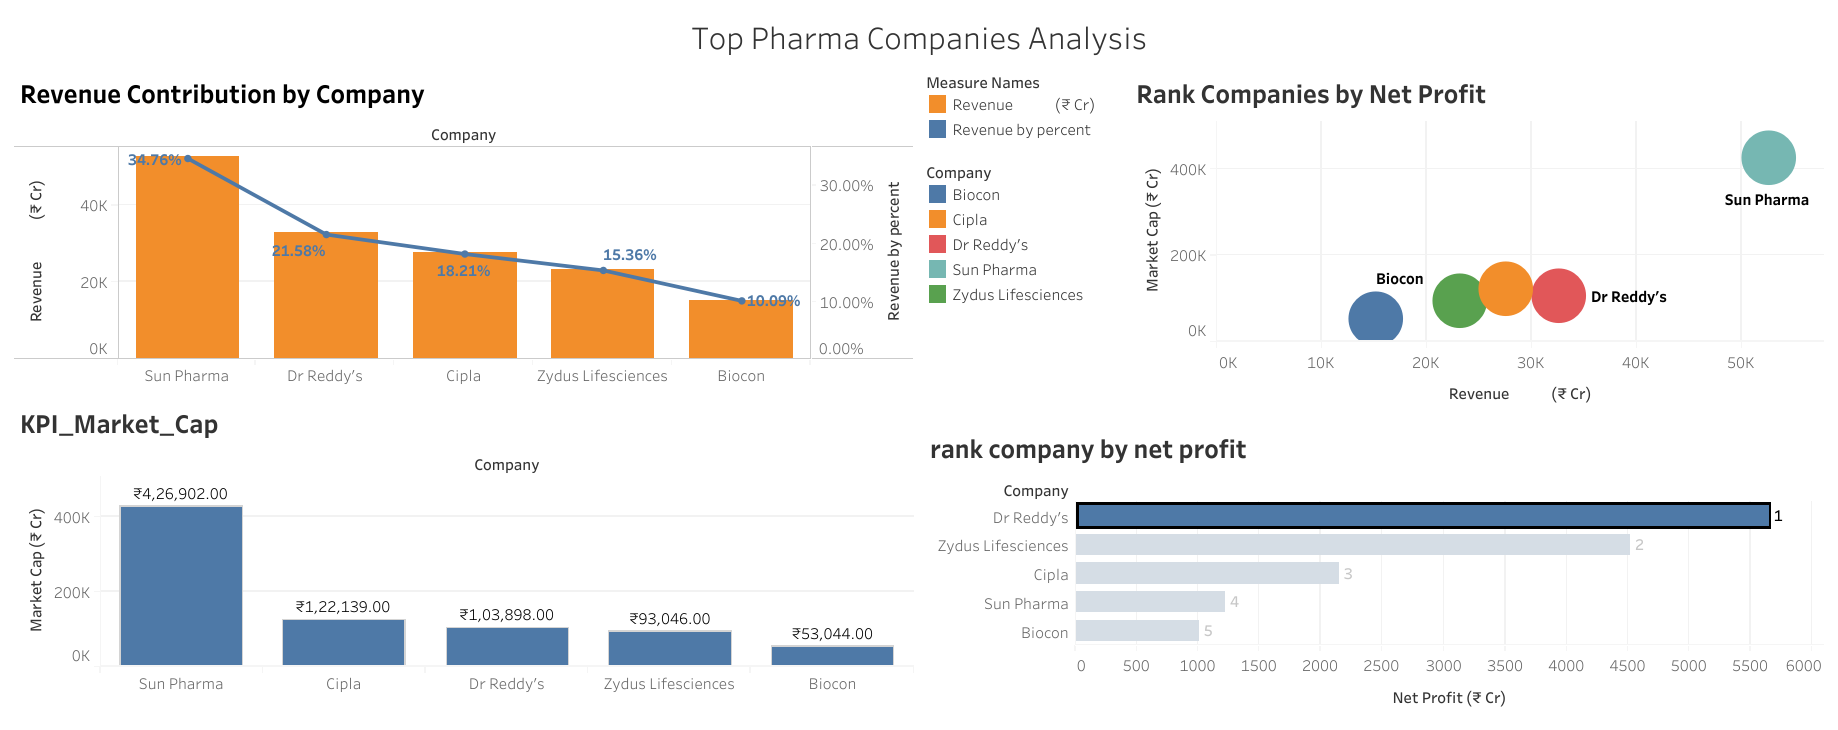

This screenshot's page, from the dashboard's own definition file:
{"tool":"tableau","page":{"name":"Dashboard 1","canvas":[1000,1000],"units":"permille","ordinal":0},"visuals":[{"type":"worksheet","title":"Sheet 3","mark":"Bar","rows":["Revenue             (₹ Cr)","Calculation1"],"cols":["Company"],"box":[4.8,10,495.2,490]},{"type":"legend","title":"Sheet 3","param":"[federated.1jpjwyq0e366t41cyo46q18hwpcz].[:Measure Names]","box":[500,10,112.7,133.6]},{"type":"worksheet","title":"Sheet 2","mark":"Circle","rows":["Market Cap (₹ Cr)"],"cols":["Revenue             (₹ Cr)"],"box":[612.7,10,382.5,528.1]},{"type":"legend","title":"Sheet 2","param":"[federated.1jpjwyq0e366t41cyo46q18hwpcz].[none:Company:nk]","box":[500,143.6,112.7,394.5]},{"type":"worksheet","title":"Sheet 1","mark":"Automatic","rows":["Market Cap (₹ Cr)"],"cols":["Company"],"box":[4.8,500,495.2,490]},{"type":"worksheet","title":"Sheet 4","mark":"Automatic","rows":["Company"],"cols":["Net Profit (₹ Cr)"],"box":[500,538.1,495.2,451.9]}]}

Visuals, with their boxes on the dashboard's canvas, which has no fixed pixel size, in thousandths of its width and height (x1, y1, x2, y2). These are canvas units, not pixel positions in the 1838x730 screenshot, which may show the page scaled, cropped or inside an application window:
"Sheet 3" worksheet (Bar marks): <region>5, 10, 500, 500</region>
"Sheet 3" legend: <region>500, 10, 613, 144</region>
"Sheet 2" worksheet (Circle marks): <region>613, 10, 995, 538</region>
"Sheet 2" legend: <region>500, 144, 613, 538</region>
"Sheet 1" worksheet: <region>5, 500, 500, 990</region>
"Sheet 4" worksheet: <region>500, 538, 995, 990</region>
